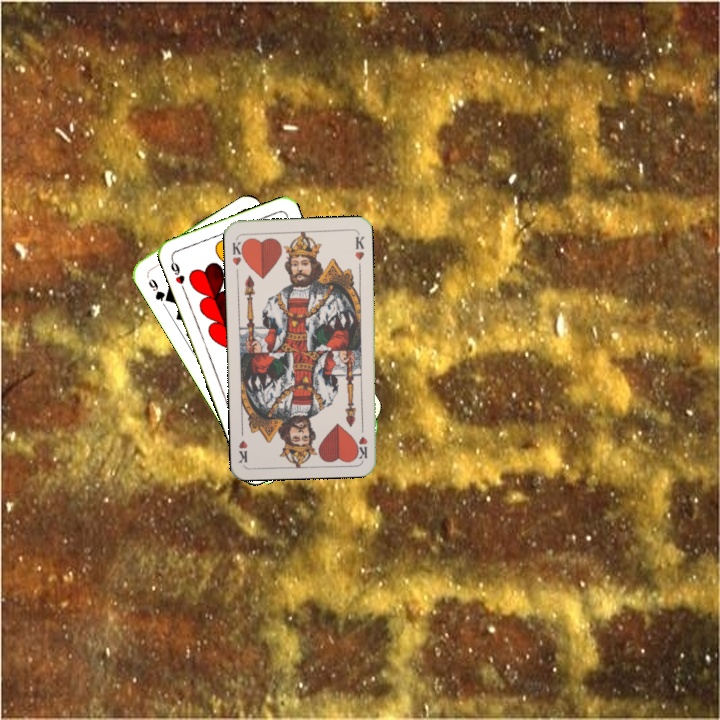G9: (142, 270, 172, 305)
H9: (166, 254, 187, 293)
HK: (354, 420, 370, 460), (228, 237, 247, 268)
